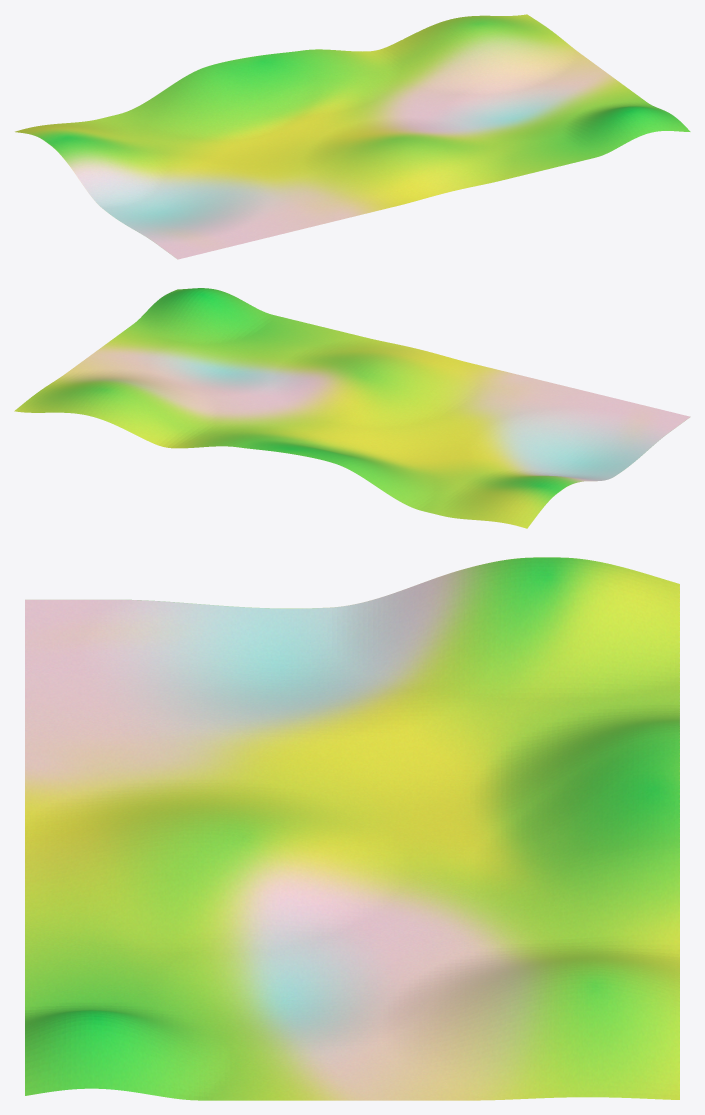
Rendered from terrain.fbx.
3 views of the same model, one above another, from view 1: azimuth 30°, elevation 25°; view 2: azimuth 150°, elevation 25°; view 3: azimuth 270°, elevation 25° (orthographic). The views are drawn at different scales.
Visible parts, largest first — view 1: 平面; view 2: 平面; view 3: 平面.
Part boxes in pixels (<box>): 平面: <box>15,14,690,259</box>; 平面: <box>14,288,690,528</box>; 平面: <box>25,557,679,1100</box>.
Bounding box in the file's own units: 28128 × 1970 × 15543.
